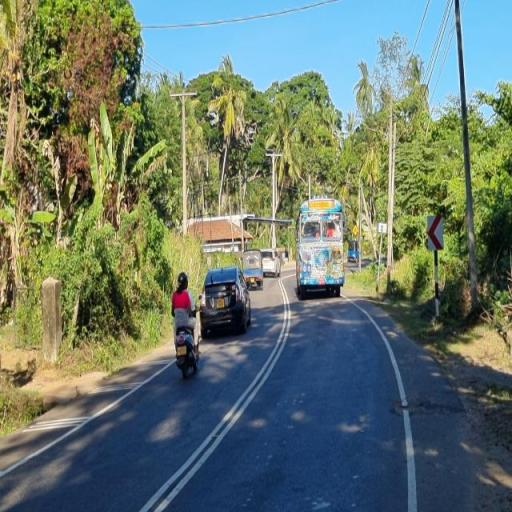double_white_line: (141, 282, 295, 511)
